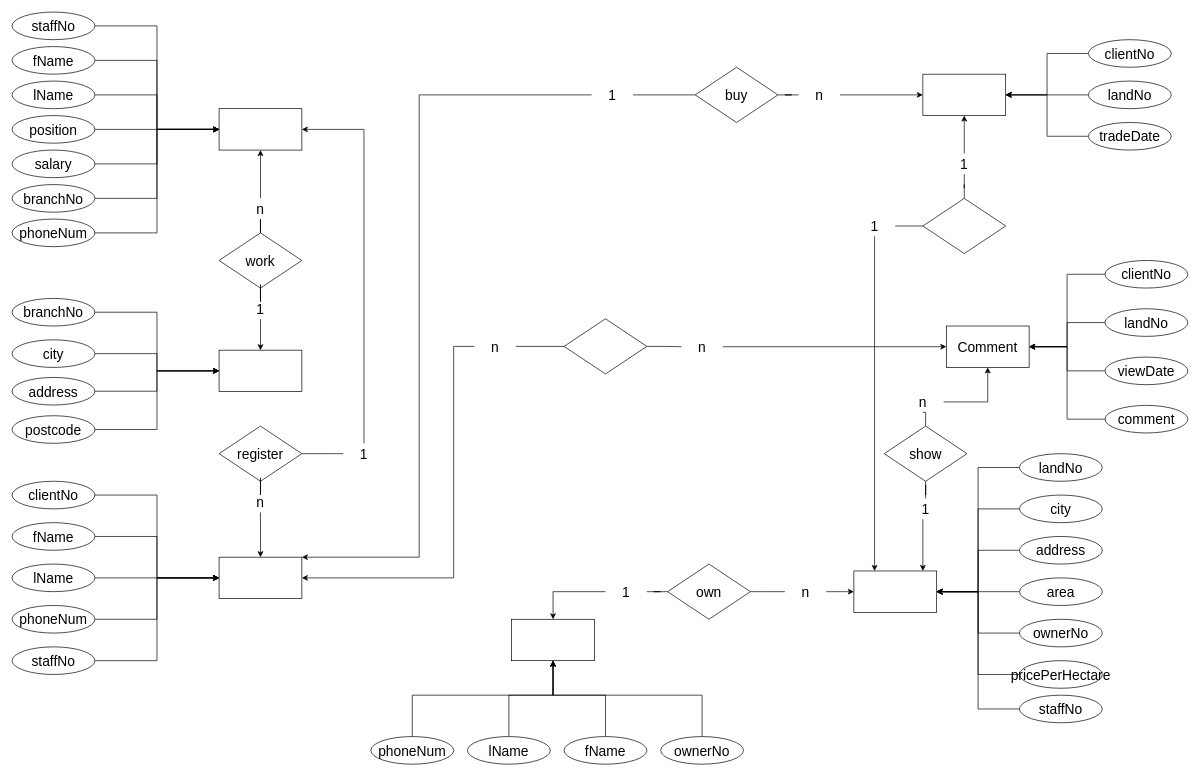
Some shapes in this 1200 by 776 pixel diagram are drawn without their labels. Here are the shapes that lost their labels. From the top down, the centre of each, then its label:
(x=964, y=94): Trade
(x=260, y=129): Staff
(x=964, y=226): sell
(x=605, y=346): view
(x=260, y=370): Branch
(x=260, y=577): Client
(x=895, y=591): Lands
(x=552, y=640): Owner
